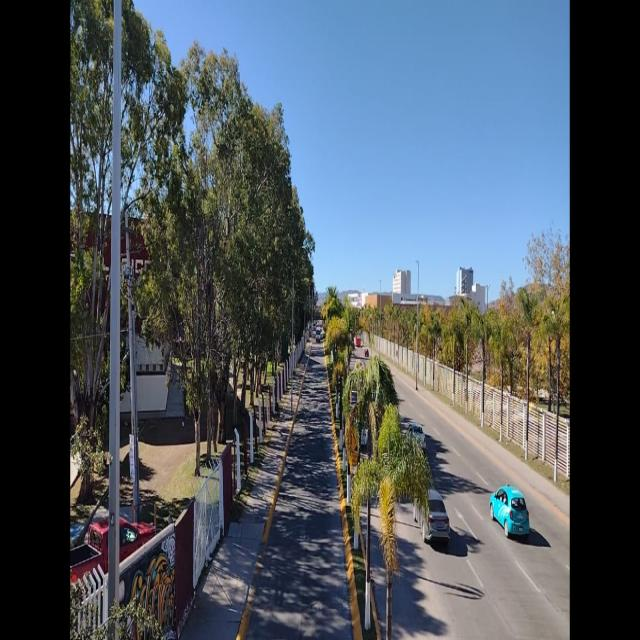Auto: (411, 482, 450, 551), (489, 484, 532, 541)
